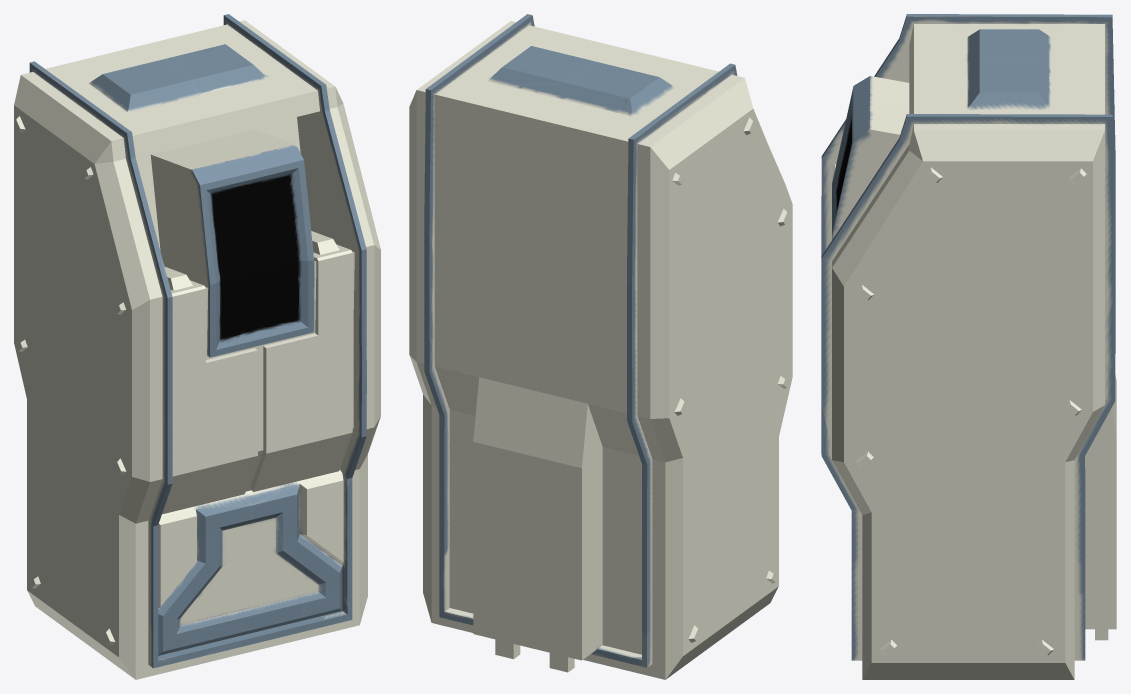
File: Cablebox_closed.fbx
3 views of the same model, side by side, from view 1: azimuth 30°, elevation 25°; view 2: azimuth 150°, elevation 25°; view 3: azimuth 270°, elevation 25° (orthographic). The views are drawn at different scales.
Parts seen in each view (by area): view 1: node_id5; view 2: node_id5; view 3: node_id5.
Part boxes in pixels (<box>): node_id5: <box>14,14,380,679</box>; node_id5: <box>409,14,792,679</box>; node_id5: <box>821,14,1116,679</box>.
Size of the model in its own units: 0.2587 by 0.512 by 0.2443.
1 material, 1 textured.
